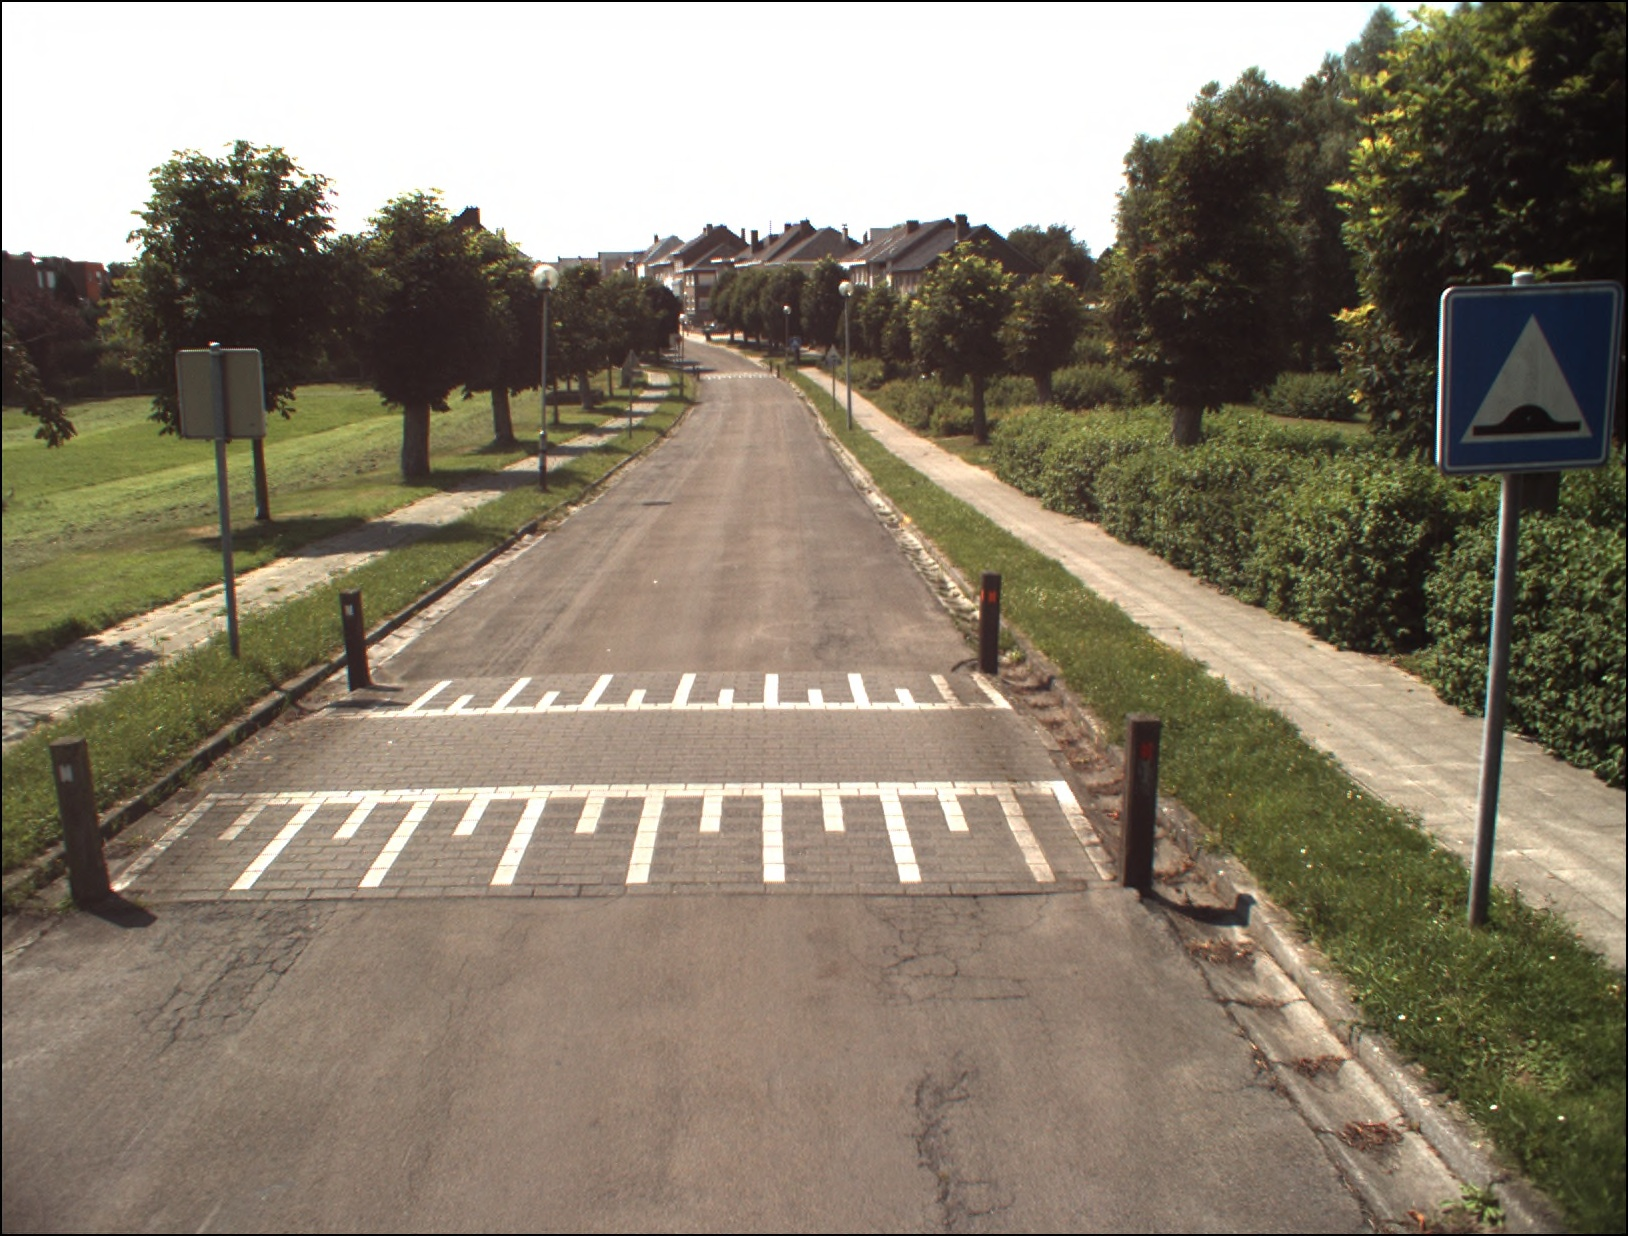speedbump: (1449, 284, 1609, 467)
